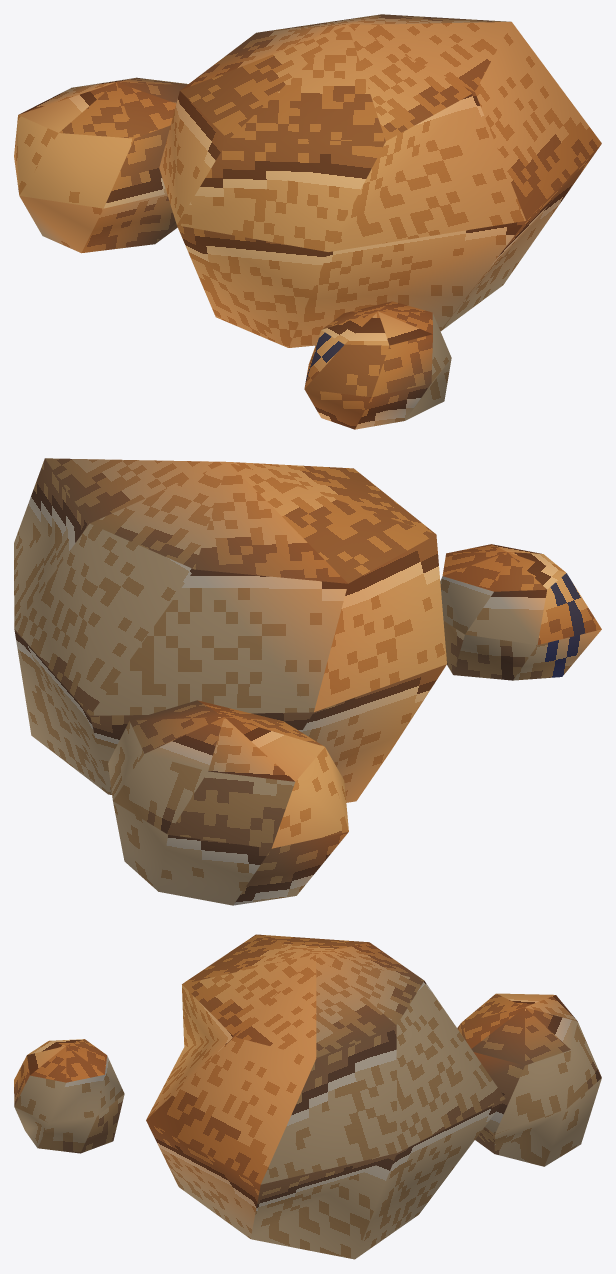
The model's file is wland.boulder.glb.
3 renders of one model, top to bottom at view 1: azimuth 30°, elevation 25°; view 2: azimuth 150°, elevation 25°; view 3: azimuth 270°, elevation 25°, orthographic. The views are drawn at different scales.
Parts seen in each view (by area): view 1: kit_rocks; view 2: kit_rocks; view 3: kit_rocks.
Boxes of the visible parts, bbox=[...] form: kit_rocks: bbox=[14, 14, 601, 429]; kit_rocks: bbox=[14, 458, 601, 905]; kit_rocks: bbox=[14, 934, 601, 1259].
Size of the model in its own units: 2.97 by 1.72 by 3.85.
Materials: 1 (1 with a texture image).
